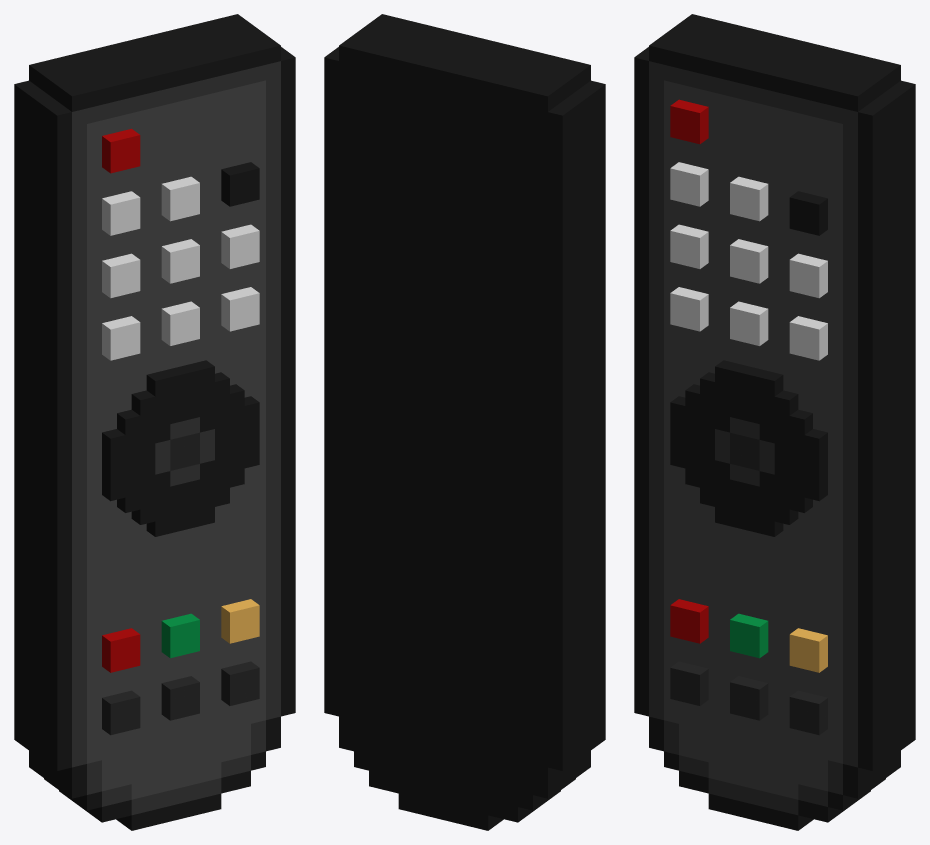
File: Pulte.obj
3 renders of one model, left to right at view 1: azimuth 30°, elevation 25°; view 2: azimuth 150°, elevation 25°; view 3: azimuth 330°, elevation 25°, orthographic.
Bounding box in the file's own units: 1.6 × 4.8 × 0.6.
Materials: 1 (1 with a texture image).
